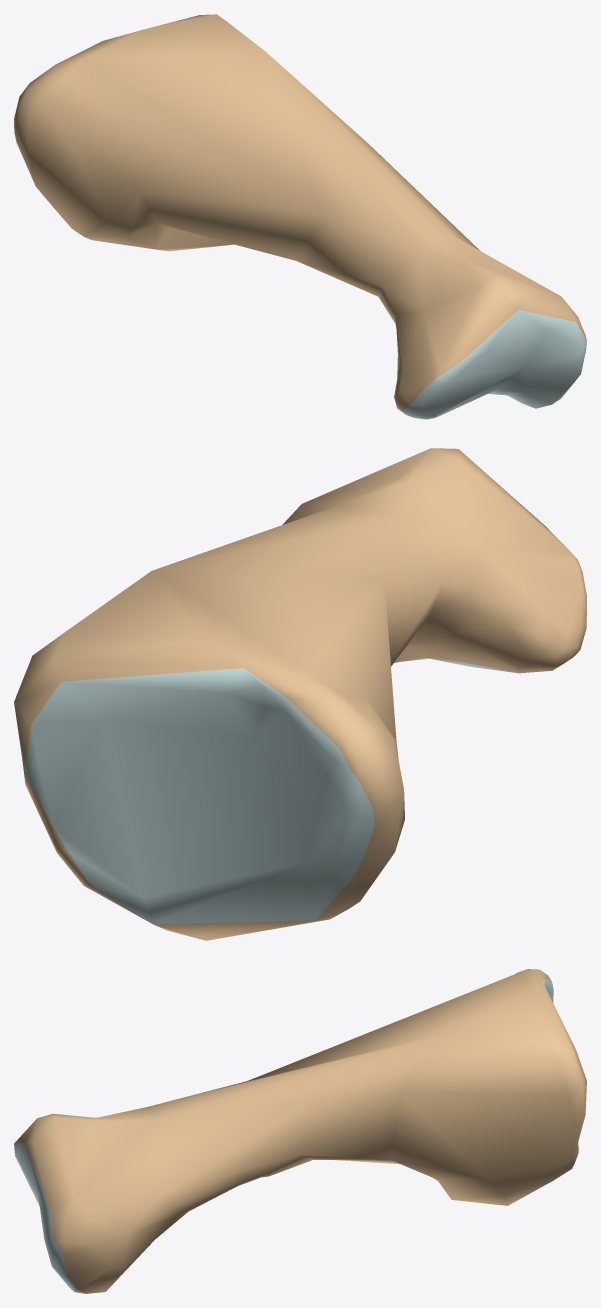
File: Phalanx_proximal_2nd_finger_foot_left.glb
3 views of the same model, one above another, from view 1: azimuth 30°, elevation 25°; view 2: azimuth 150°, elevation 25°; view 3: azimuth 270°, elevation 25° (orthographic). The views are drawn at different scales.
Parts seen in each view (by area): view 1: Proximal_phalanx_of_2d_finger_of_foot.l_Generated_Mesh_From_; view 2: Proximal_phalanx_of_2d_finger_of_foot.l_Generated_Mesh_From_; view 3: Proximal_phalanx_of_2d_finger_of_foot.l_Generated_Mesh_From_.
Boxes of the visible parts, <box> form: Proximal_phalanx_of_2d_finger_of_foot.l_Generated_Mesh_From_: <box>14,14,586,419</box>; Proximal_phalanx_of_2d_finger_of_foot.l_Generated_Mesh_From_: <box>14,448,586,940</box>; Proximal_phalanx_of_2d_finger_of_foot.l_Generated_Mesh_From_: <box>14,969,586,1293</box>.
Size of the model in its own units: 0.0179 by 0.013 by 0.0294.
